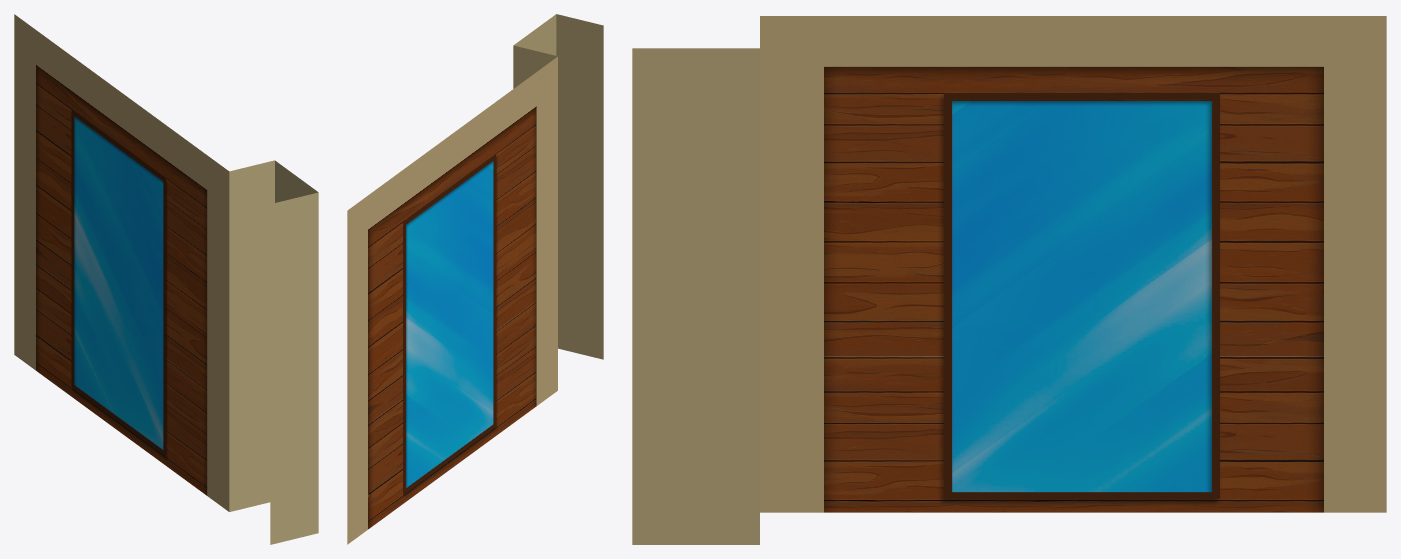
Rendered from pared_02.fbx.
The picture shows the model from 3 angles, left to right: view 1: azimuth 30°, elevation 25°; view 2: azimuth 150°, elevation 25°; view 3: azimuth 270°, elevation 25°; orthographic projection. The views are drawn at different scales.
Parts seen in each view (by area): view 1: Plane.002; view 2: Plane.002; view 3: Plane.002.
Part boxes in pixels (x1,y1,x2,y2): Plane.002: (14,14,318,544); Plane.002: (347,14,603,544); Plane.002: (632,16,1386,544).
Size of the model in its own units: 40.08 by 270 by 372.
2 materials, 1 textured.
